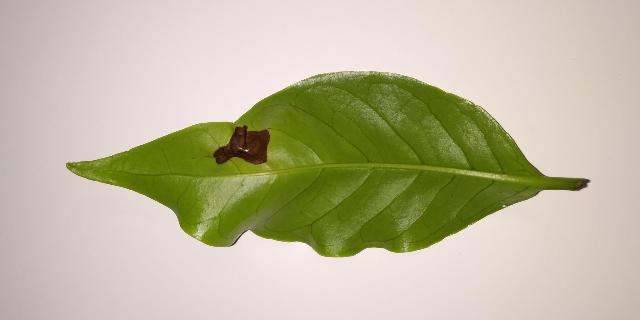rust: (213, 127, 270, 165)
